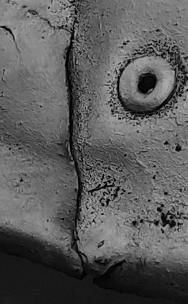crack: (1, 1, 188, 304)
